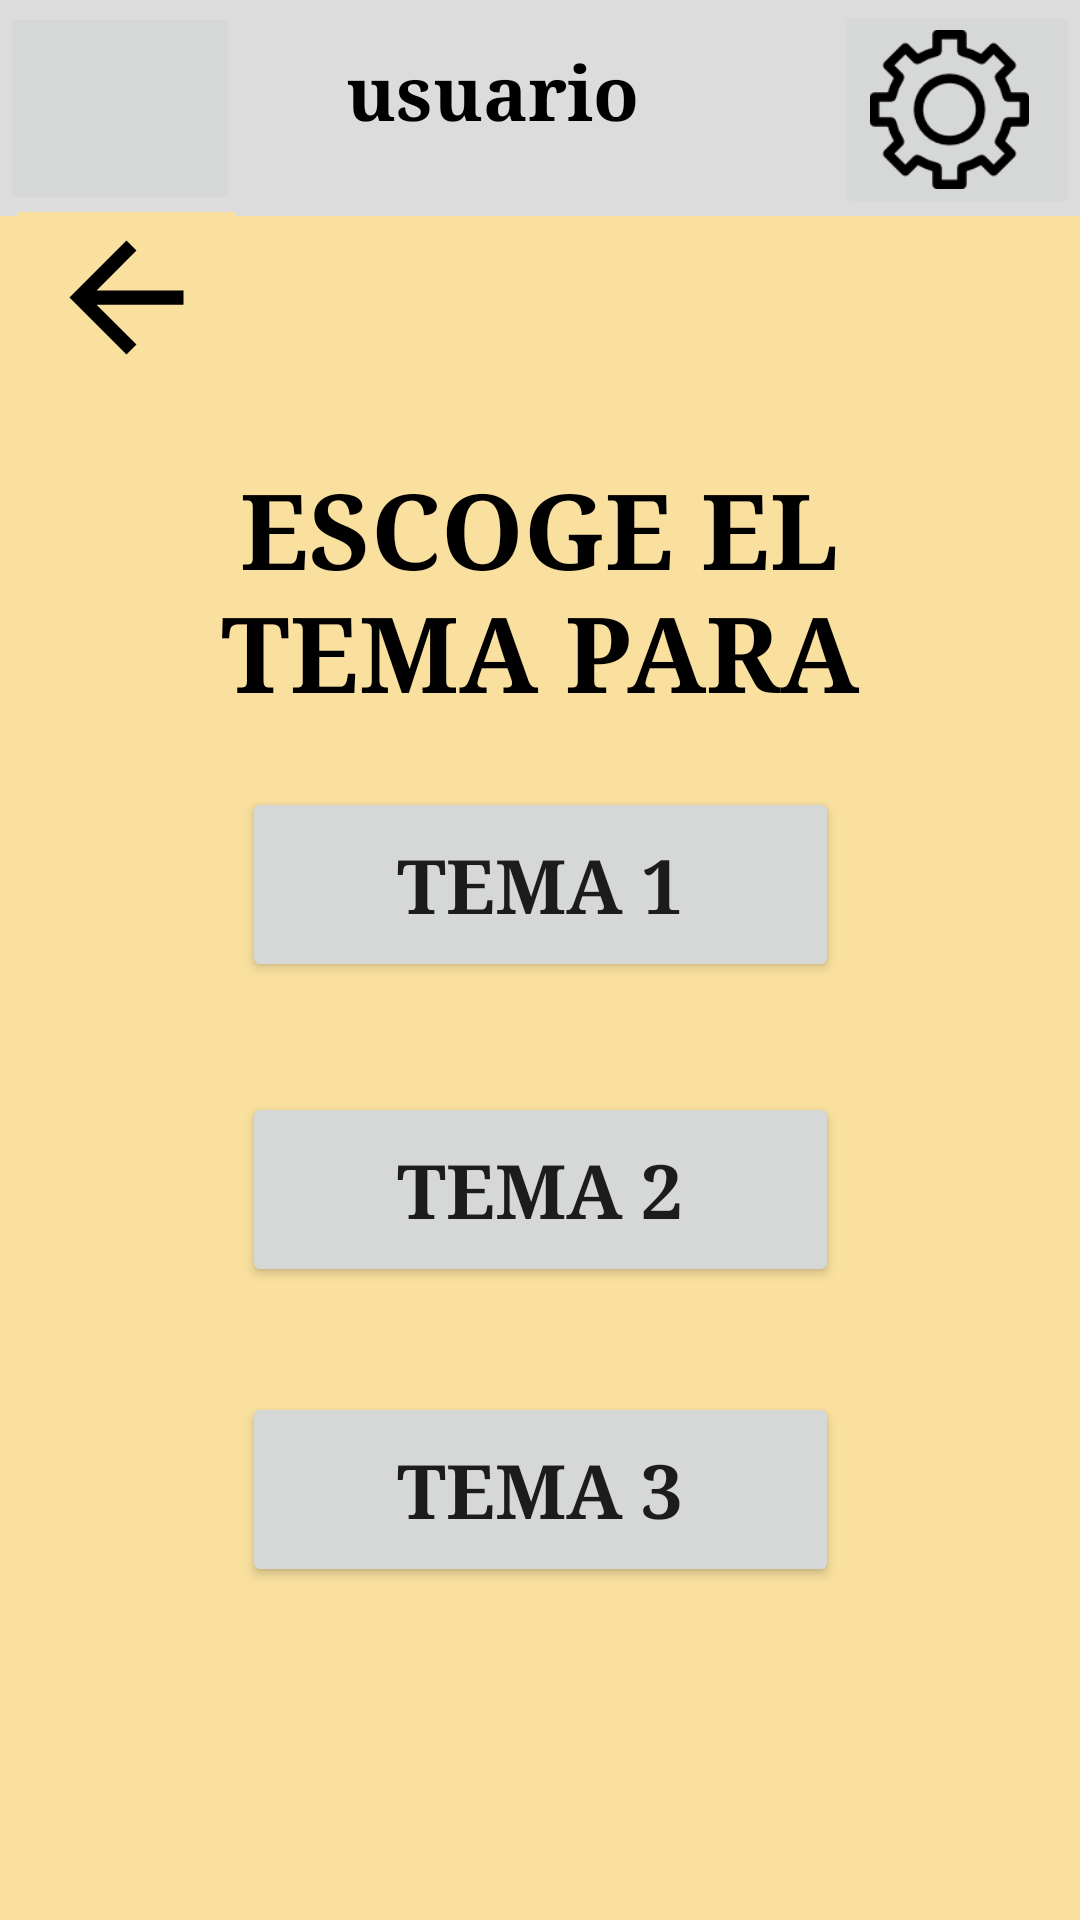

Icon click points for this 1080px×1920px phone screenshot, format point (x, y):
engranaje: point (957, 109)
